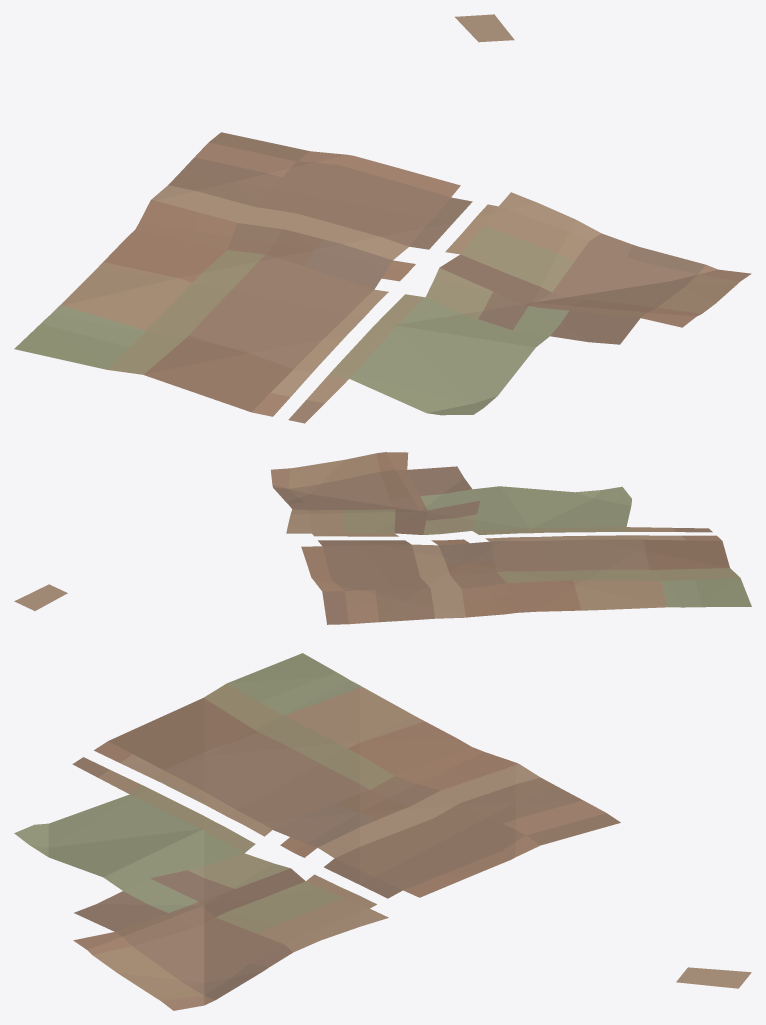
File: farm_6_14_soil.glb
3 views of the same model, one above another, from view 1: azimuth 30°, elevation 25°; view 2: azimuth 150°, elevation 25°; view 3: azimuth 270°, elevation 25° (orthographic). The views are drawn at different scales.
Parts seen in each view (by area): view 1: geometry_0; view 2: geometry_0; view 3: geometry_0.
Part boxes in pixels (x1=…): geometry_0: x1=14, y1=14, x2=751, y2=423; geometry_0: x1=14, y1=452, x2=751, y2=624; geometry_0: x1=14, y1=653, x2=751, y2=1010.
Size of the model in its own units: 407 by 27.75 by 379.
